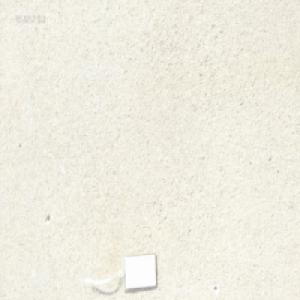LuggageTag: (82, 250, 158, 292)
